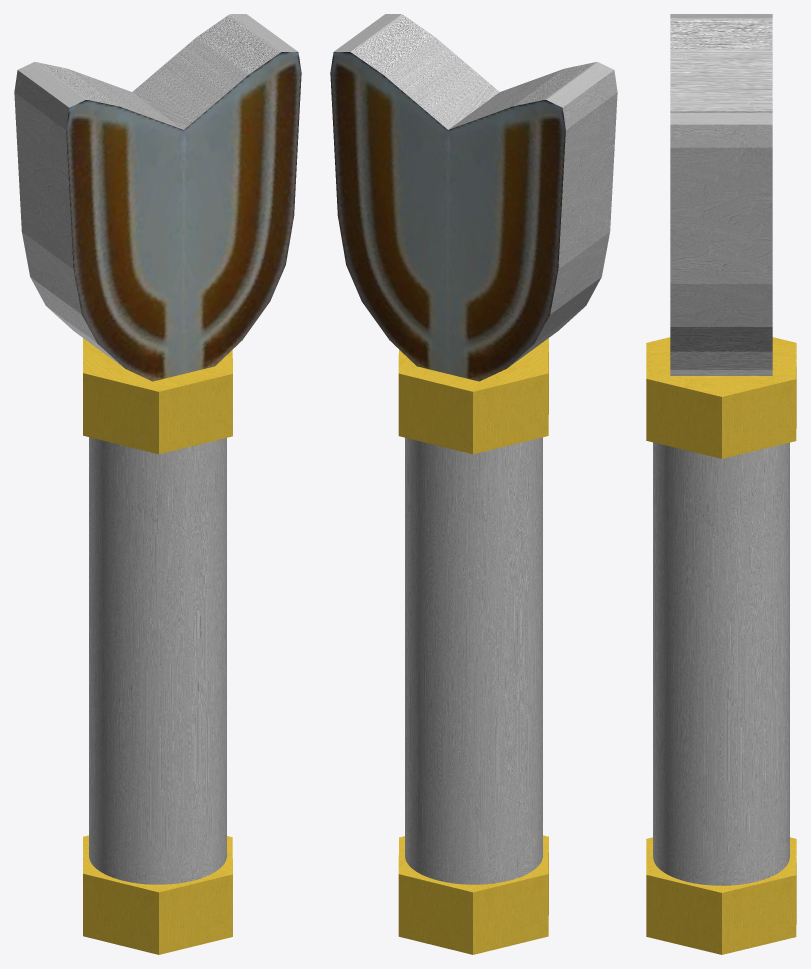
The model's file is TIGA.fbx.
The picture shows the model from 3 angles, left to right: view 1: azimuth 30°, elevation 25°; view 2: azimuth 150°, elevation 25°; view 3: azimuth 270°, elevation 25°; orthographic projection.
Parts seen in each view (by area): view 1: node_id16 (×3), node_id7 (×2), node_id10 (×2); view 2: node_id16 (×3), node_id7 (×2), node_id10 (×2); view 3: node_id16 (×3), node_id10, node_id7.
Part boxes in pixels (bbox=[...]): node_id16 (×3): bbox=[83, 338, 232, 954]; node_id7 (×2): bbox=[14, 62, 186, 381]; node_id10 (×2): bbox=[132, 14, 301, 373]; node_id16 (×3): bbox=[398, 338, 548, 954]; node_id7 (×2): bbox=[445, 62, 617, 381]; node_id10 (×2): bbox=[330, 14, 499, 374]; node_id16 (×3): bbox=[646, 337, 796, 954]; node_id10: bbox=[670, 111, 772, 375]; node_id7: bbox=[670, 14, 772, 111].
Size of the model in its own units: 0.1459 by 0.5097 by 0.0815.
9 materials, 9 textured.
